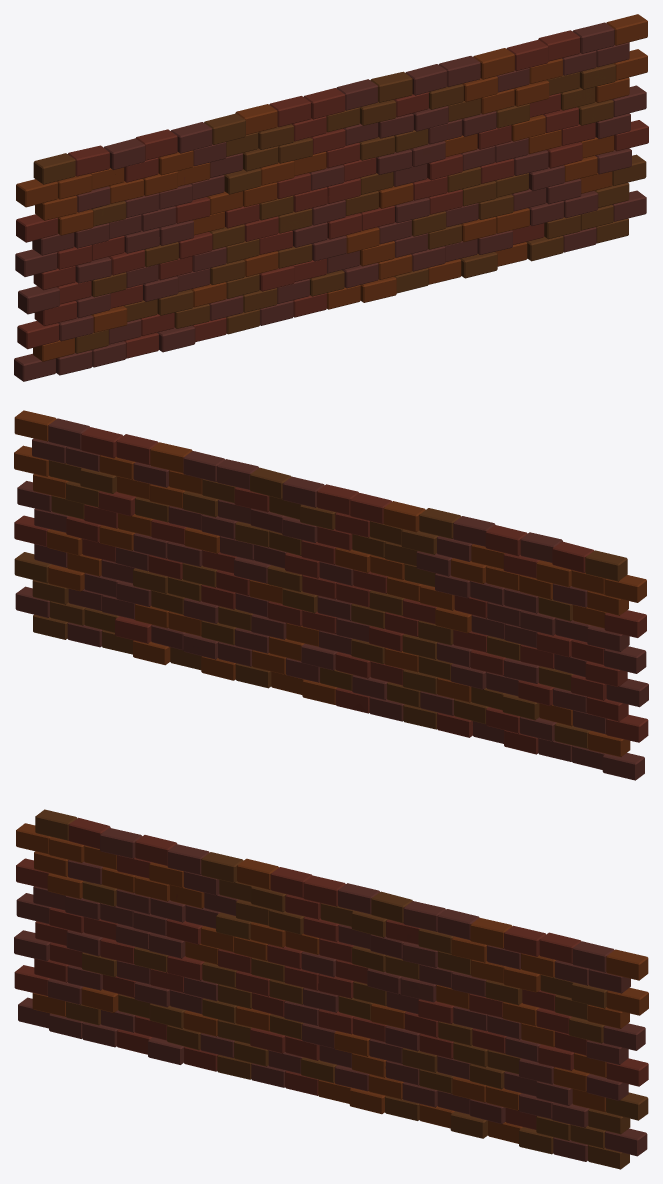
File: BrokenWall.fbx
3 views of the same model, one above another, from view 1: azimuth 30°, elevation 25°; view 2: azimuth 150°, elevation 25°; view 3: azimuth 330°, elevation 25° (orthographic).
Parts seen in each view (by area): view 1: Cube.001, Cube.001_cell.212, Cube.001_cell.209, Cube.001_cell.046, Cube.001_cell.393, Cube.001_cell.1479, Cube.001_cell.211, Cube.001_cell.198, Cube.001_cell.1445; view 2: Cube.001; view 3: Cube.001, Cube.001_cell.209, Cube.001_cell.046, Cube.001_cell.212, Cube.001_cell.393, Cube.001_cell.214, Cube.001_cell.211, Cube.001_cell.198, Cube.001_cell.771.
Part boxes in pixels (left/top/right/bottom): Cube.001: left=14, top=14, right=648, bottom=380; Cube.001_cell.212: left=143, top=276, right=178, bottom=301; Cube.001_cell.209: left=191, top=282, right=226, bottom=307; Cube.001_cell.046: left=480, top=159, right=514, bottom=183; Cube.001_cell.393: left=110, top=179, right=143, bottom=203; Cube.001_cell.1479: left=209, top=295, right=243, bottom=320; Cube.001_cell.211: left=158, top=256, right=192, bottom=280; Cube.001_cell.198: left=177, top=268, right=210, bottom=292; Cube.001_cell.1445: left=293, top=258, right=326, bottom=281; Cube.001: left=14, top=410, right=648, bottom=780; Cube.001: left=14, top=809, right=648, bottom=1169; Cube.001_cell.209: left=183, top=1010, right=217, bottom=1036; Cube.001_cell.046: left=472, top=1028, right=505, bottom=1053; Cube.001_cell.212: left=134, top=981, right=168, bottom=1007; Cube.001_cell.393: left=102, top=867, right=135, bottom=892; Cube.001_cell.214: left=167, top=1025, right=200, bottom=1049; Cube.001_cell.211: left=150, top=969, right=183, bottom=992; Cube.001_cell.198: left=170, top=990, right=202, bottom=1014; Cube.001_cell.771: left=301, top=921, right=327, bottom=953.
Size of the model in its own units: 1189 by 384 by 47.67.
